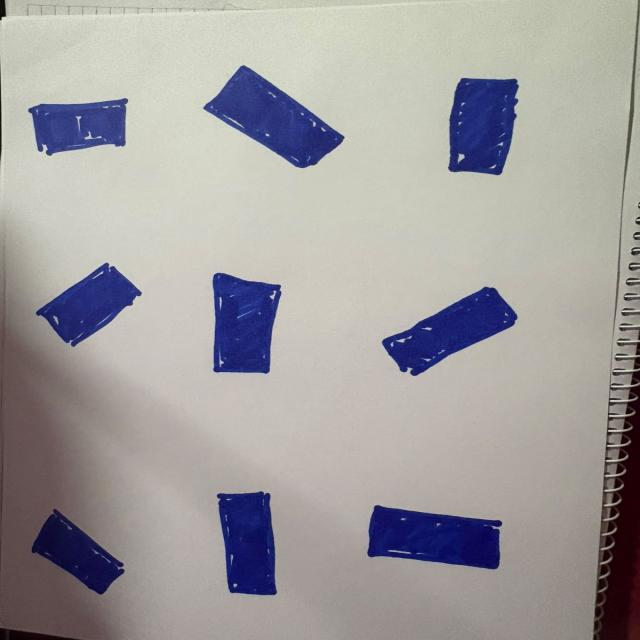Rectangle: (203, 66, 343, 168), (382, 287, 517, 376), (36, 263, 141, 346), (367, 505, 501, 569), (32, 509, 123, 594), (213, 273, 281, 373), (218, 492, 276, 594), (28, 99, 126, 155)
